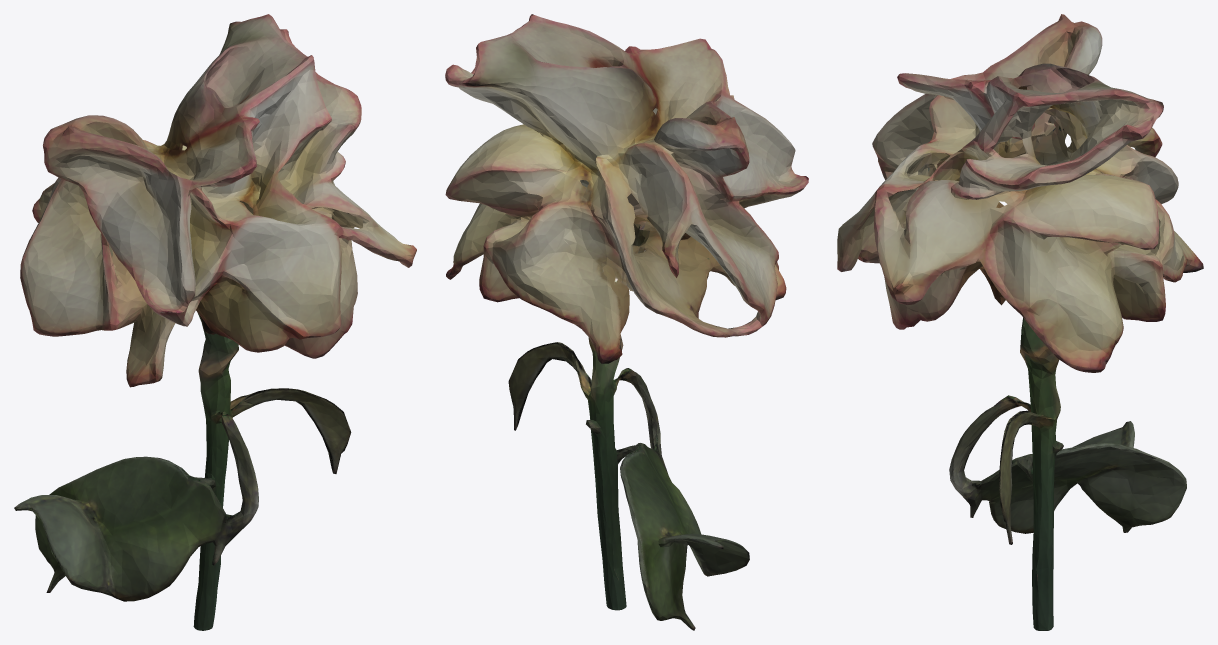
3 renders of one model, left to right at view 1: azimuth 30°, elevation 25°; view 2: azimuth 150°, elevation 25°; view 3: azimuth 270°, elevation 25°, orthographic. The views are drawn at different scales.
Visible parts, largest first — view 1: world; view 2: world; view 3: world.
Boxes of the visible parts, x1,y1,x2,y2 form: world: [14, 14, 416, 630]; world: [445, 14, 808, 630]; world: [837, 14, 1203, 630].
Size of the model in its own units: 0.5604 by 0.9788 by 0.5526.
Materials: 1 (1 with a texture image).
